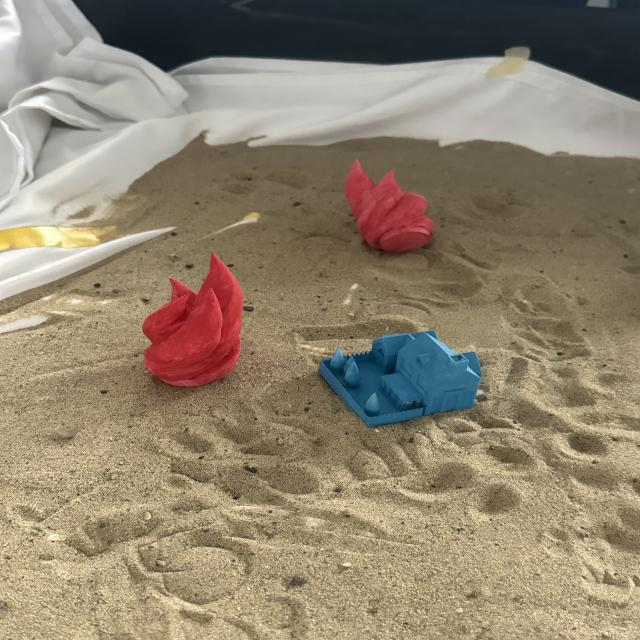fire: (139, 251, 246, 388), (342, 157, 436, 254)
house: (315, 327, 484, 429)
